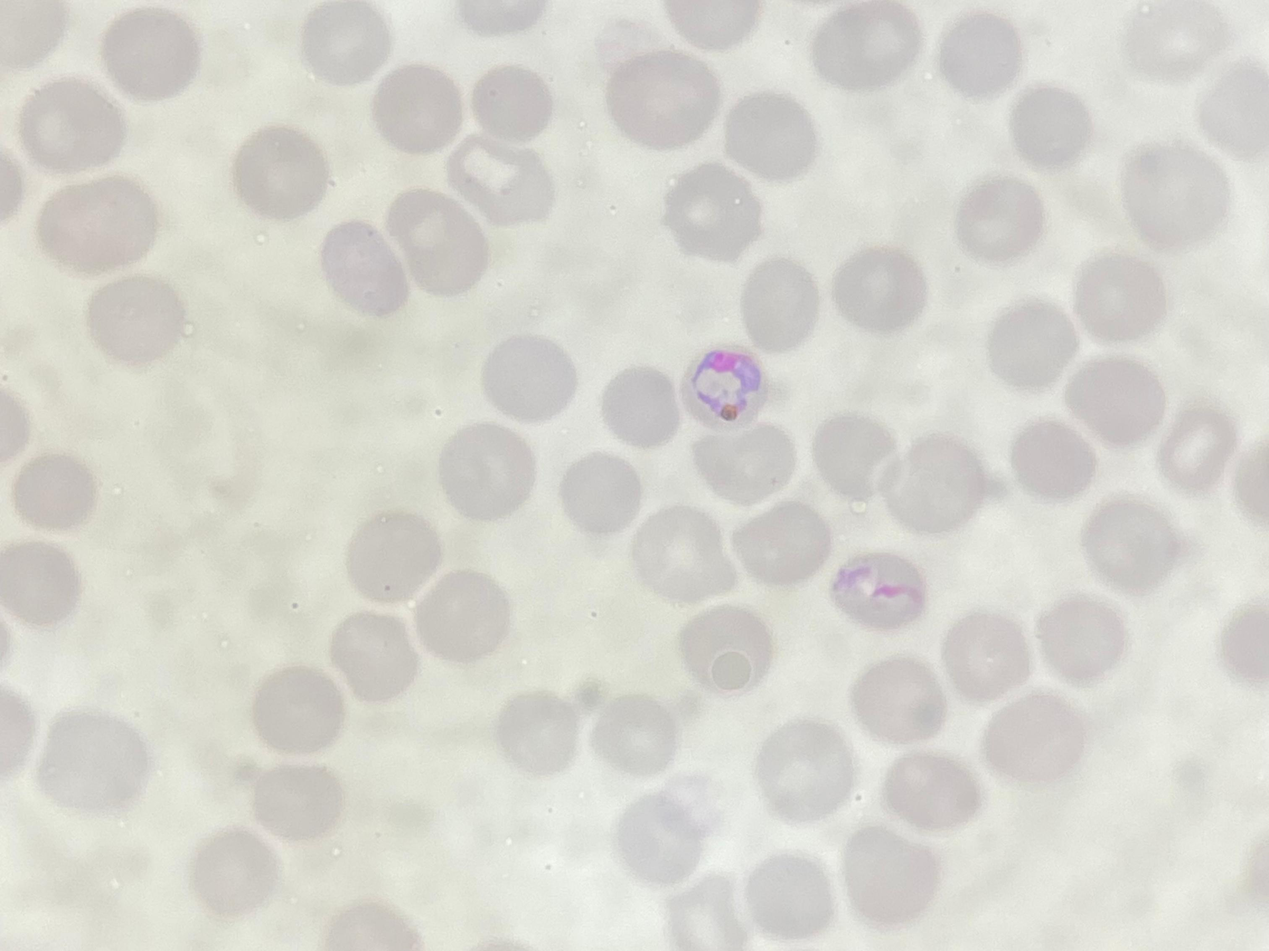Infected: (678, 340, 768, 424)
Uninfected: (34, 706, 149, 814), (36, 176, 159, 276), (385, 189, 494, 297), (603, 51, 719, 148), (1120, 144, 1226, 246), (883, 433, 992, 531), (447, 136, 554, 232), (754, 718, 855, 819), (840, 823, 941, 924), (19, 76, 125, 172), (105, 0, 204, 101), (661, 164, 764, 261), (436, 422, 538, 519), (344, 508, 446, 605), (629, 505, 730, 601), (411, 567, 511, 662), (1064, 353, 1166, 446), (982, 691, 1084, 784), (612, 788, 710, 884), (811, 4, 919, 91), (729, 500, 832, 590), (1079, 498, 1178, 591), (85, 272, 187, 362), (232, 125, 329, 217), (675, 604, 771, 696), (690, 423, 798, 504), (1072, 253, 1168, 343), (370, 63, 467, 152), (480, 333, 578, 421), (320, 220, 410, 315), (251, 665, 346, 754), (742, 848, 837, 937), (722, 91, 818, 179), (1034, 594, 1128, 683), (298, 0, 394, 87), (849, 655, 946, 741), (327, 610, 419, 700), (941, 612, 1033, 701), (833, 546, 929, 631), (1123, 0, 1226, 79), (831, 245, 924, 332), (881, 747, 978, 829), (588, 693, 679, 780), (955, 178, 1049, 262), (189, 828, 279, 915), (0, 537, 86, 628), (812, 412, 900, 500), (987, 301, 1078, 386), (246, 762, 341, 843), (936, 10, 1023, 96), (1009, 417, 1098, 500), (739, 258, 822, 346), (559, 453, 646, 536), (468, 63, 557, 144), (495, 691, 581, 774), (10, 450, 97, 531), (1009, 84, 1094, 166), (1196, 62, 1269, 157), (1154, 404, 1236, 488), (599, 366, 683, 446), (663, 873, 748, 946)
